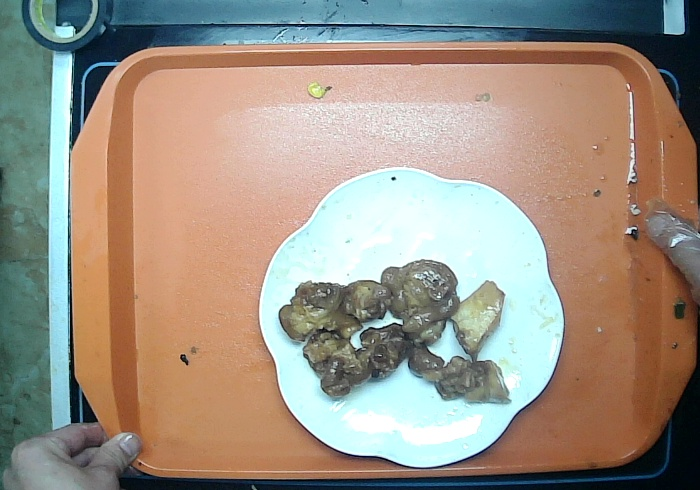HZYJPL-Bai_Se_Hua_Duo_Wan: (256, 165, 565, 471)
